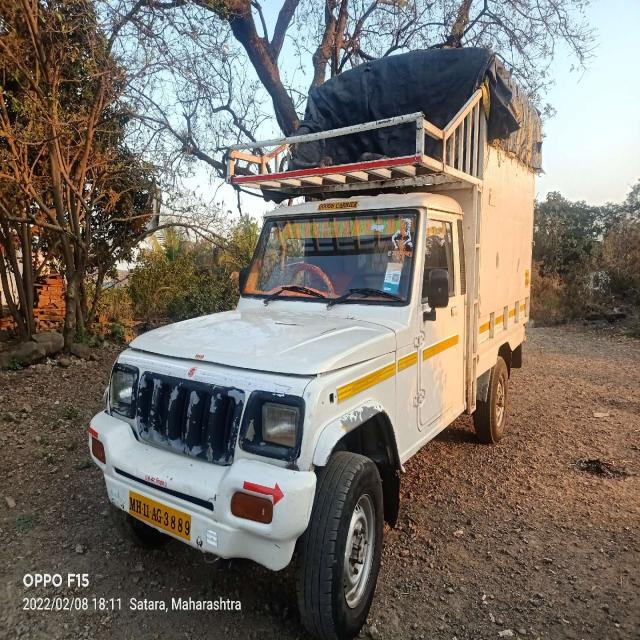light_vehicle: (82, 173, 537, 581)
